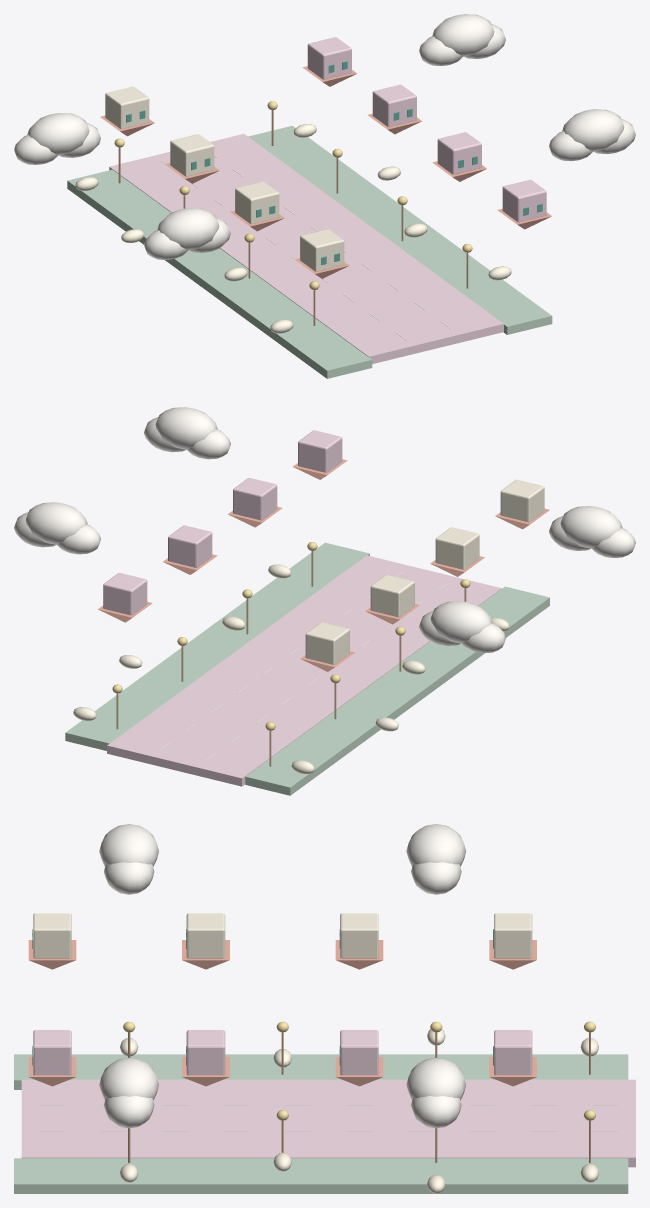
Rendered from hi3d-runner-village-1.glb.
The picture shows the model from 3 angles, top to bottom: view 1: azimuth 30°, elevation 25°; view 2: azimuth 150°, elevation 25°; view 3: azimuth 270°, elevation 25°; orthographic projection. The views are drawn at different scales.
Parts seen in each view (by area): view 1: ENV_MAT_pink.001, ENV_MAT_grass.001, ENV_MAT_white.003, ENV_MAT_cream.004, HOUSE_WALL.013, HOUSE_WALL.015, HOUSE_WALL.009, HOUSE_WALL.014, HOUSE_WALL.010, HOUSE_WALL.011, HOUSE_WALL.012, HOUSE_WALL.008 (+2 smaller); view 2: ENV_MAT_pink.001, ENV_MAT_grass.001, ENV_MAT_white.003, ENV_MAT_cream.004, HOUSE_WALL.009, HOUSE_WALL.010, HOUSE_WALL.011, HOUSE_WALL.014, HOUSE_WALL.015, HOUSE_WALL.008, HOUSE_WALL.013, HOUSE_WALL.012 (+2 smaller); view 3: ENV_MAT_pink.001, ENV_MAT_grass.001, ENV_MAT_white.003, ENV_MAT_cream.004, HOUSE_WALL.009, HOUSE_WALL.013, HOUSE_WALL.011, HOUSE_WALL.015, HOUSE_WALL.008, HOUSE_WALL.010, HOUSE_WALL.012, HOUSE_WALL.014 (+8 smaller).
Boxes of the visible parts, x1,y1,x2,y2 form: ENV_MAT_pink.001: [109, 134, 503, 363]; ENV_MAT_grass.001: [67, 125, 552, 378]; ENV_MAT_white.003: [14, 14, 635, 340]; ENV_MAT_cream.004: [75, 124, 511, 333]; HOUSE_WALL.013: [437, 132, 481, 174]; HOUSE_WALL.015: [307, 37, 351, 79]; HOUSE_WALL.009: [235, 181, 279, 224]; HOUSE_WALL.014: [372, 84, 416, 127]; HOUSE_WALL.010: [170, 134, 214, 176]; HOUSE_WALL.011: [105, 86, 149, 128]; HOUSE_WALL.012: [502, 179, 546, 222]; HOUSE_WALL.008: [300, 229, 344, 271]; ENV_MAT_pink.001: [107, 555, 501, 786]; ENV_MAT_grass.001: [65, 542, 549, 795]; ENV_MAT_white.003: [14, 407, 635, 761]; ENV_MAT_cream.004: [73, 564, 509, 774]; HOUSE_WALL.009: [435, 527, 479, 569]; HOUSE_WALL.010: [370, 574, 414, 617]; HOUSE_WALL.011: [305, 622, 349, 664]; HOUSE_WALL.014: [168, 525, 212, 567]; HOUSE_WALL.015: [103, 573, 147, 615]; HOUSE_WALL.008: [500, 479, 544, 522]; HOUSE_WALL.013: [233, 478, 277, 520]; HOUSE_WALL.012: [298, 430, 342, 472]; ENV_MAT_pink.001: [21, 1079, 635, 1167]; ENV_MAT_grass.001: [14, 1054, 628, 1193]; ENV_MAT_white.003: [39, 824, 617, 1131]; ENV_MAT_cream.004: [120, 1029, 598, 1193]; HOUSE_WALL.009: [186, 913, 225, 958]; HOUSE_WALL.013: [186, 1030, 225, 1075]; HOUSE_WALL.011: [494, 913, 532, 958]; HOUSE_WALL.015: [494, 1030, 532, 1075]; HOUSE_WALL.008: [33, 913, 71, 958]; HOUSE_WALL.010: [340, 913, 378, 958]; HOUSE_WALL.012: [33, 1030, 71, 1075]; HOUSE_WALL.014: [340, 1030, 378, 1075].
Size of the model in its own units: 43.4 by 13.11 by 40.5.
